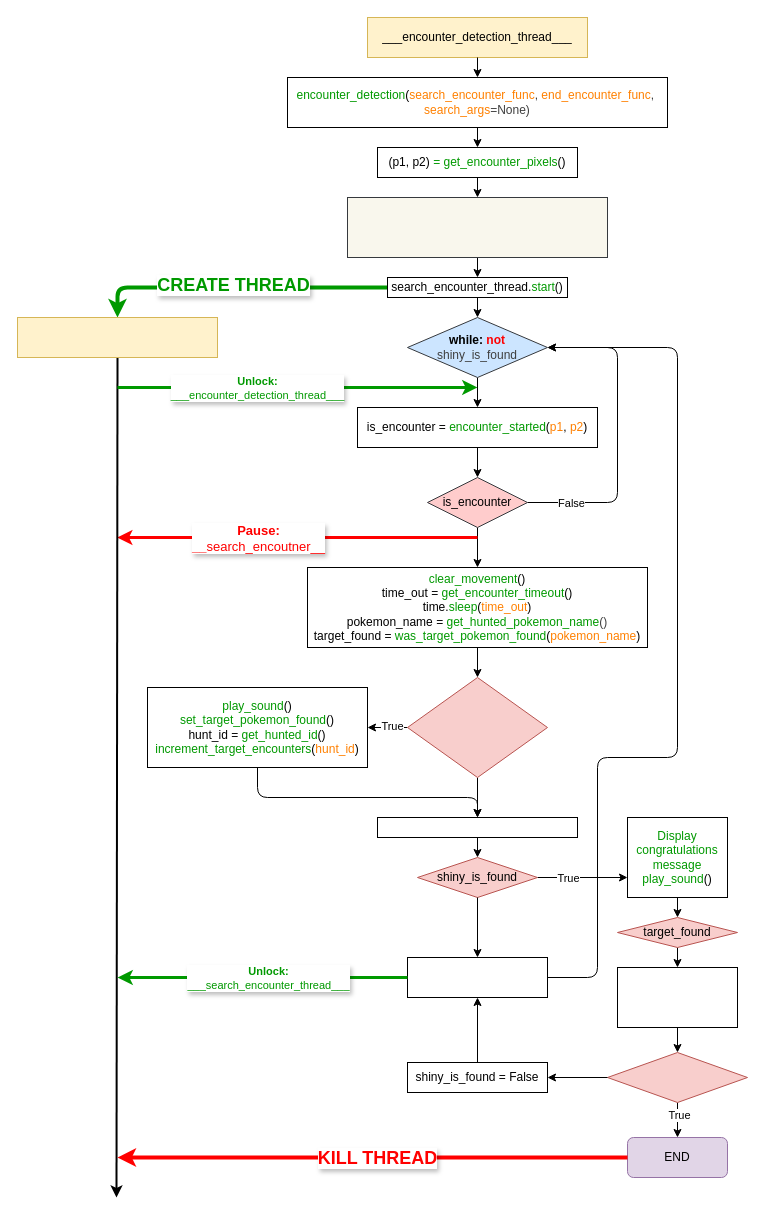
This 765x1224 diagram has some shape labels left out. The centre of each missing label's shape, as x and y in pixels:
___search_encounter_thread___: point (117, 337)
end_encounter_func (): point (477, 977)
not flee_from_shiny: point (677, 1077)
Pause: ___encounter_detection_thread___ Resume: ___search_encounter_thread___: point (477, 227)
play_sound () finish_hunt ( hunt_id ): point (677, 997)
shiny_is_found = find_sparkles (): point (477, 827)
target_found and not shiny_is_found: point (477, 727)
